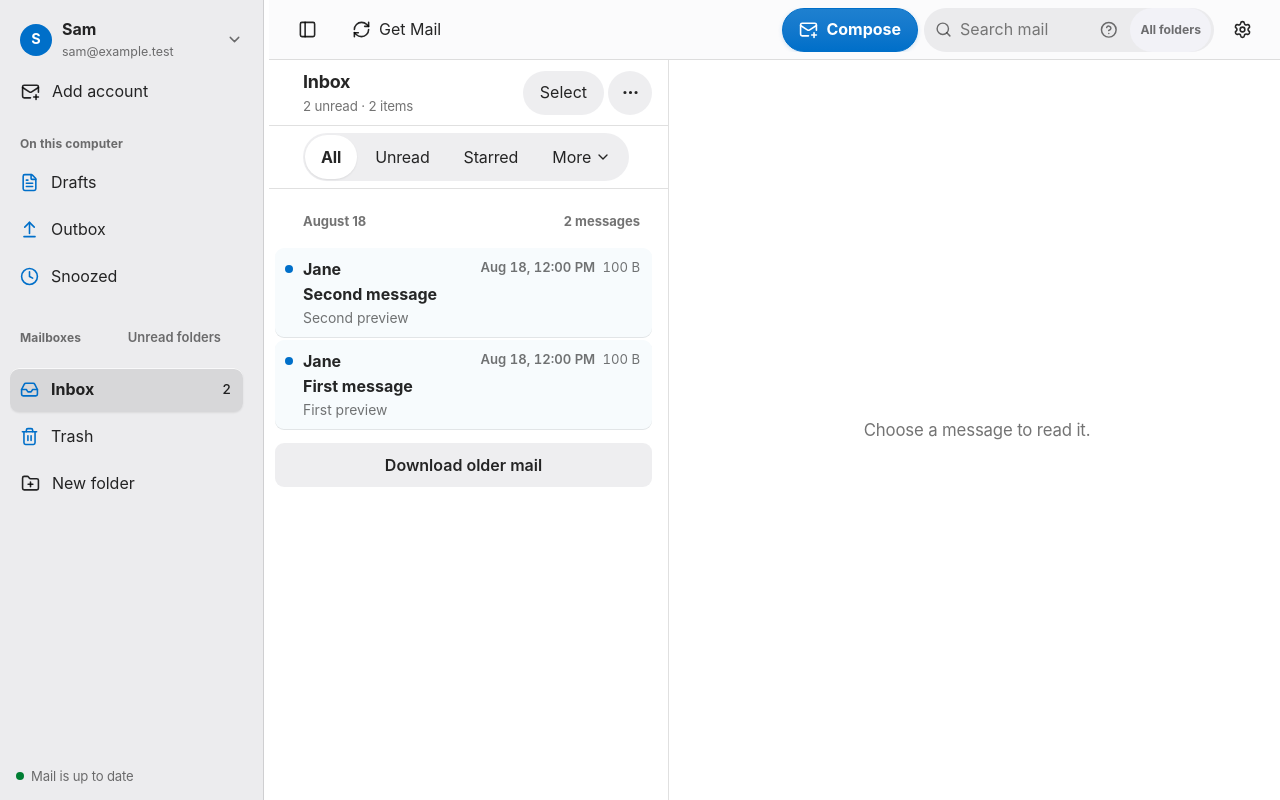
it: mail shell › unmutes a conversation without moving the message
The image size is (1280, 800).
Click the option "Jane Aug 18, 12:00 PM 100 B First message First preview" at (322, 361), box [275, 340, 652, 430]
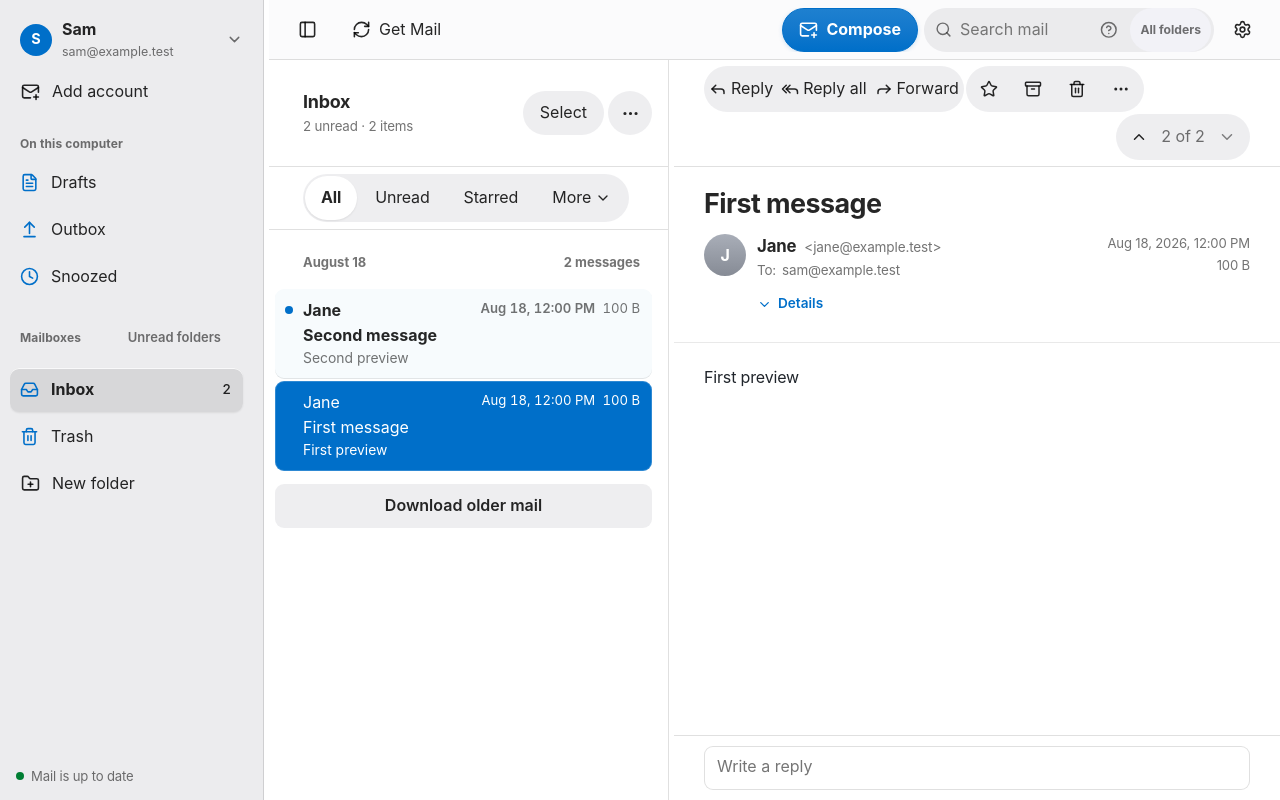
Expected: the heading "First message" is shown, [704, 187, 882, 219]
